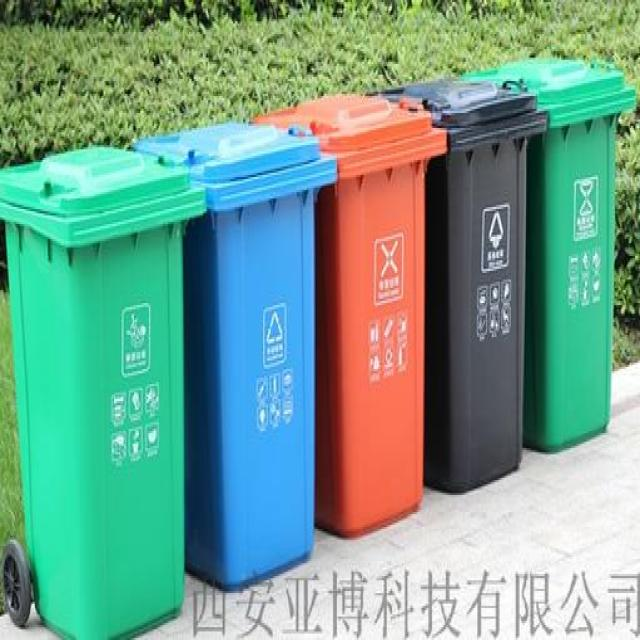garbage_bin: (0, 143, 204, 638), (132, 117, 336, 591), (252, 90, 446, 540), (366, 81, 544, 495), (461, 55, 634, 452)
